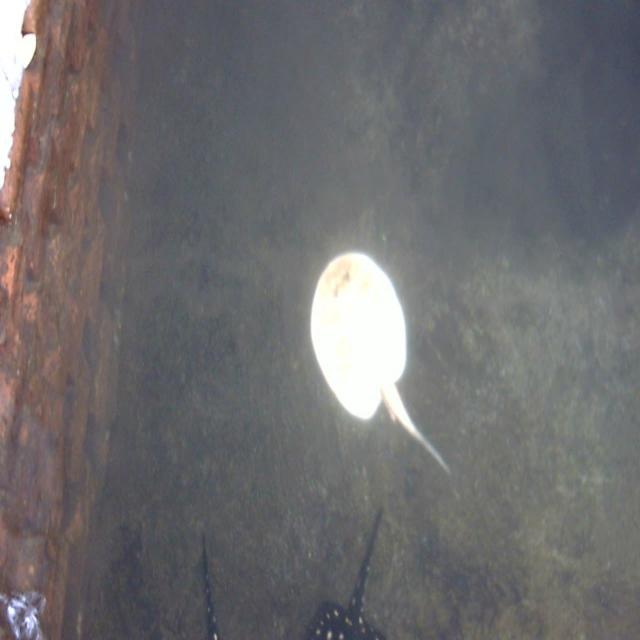albino-sting-ray: (298, 215, 458, 512)
